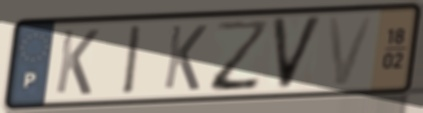I: (121, 22, 145, 98)
K: (52, 27, 102, 97), (160, 23, 210, 93)
V: (269, 13, 326, 93), (324, 13, 379, 90)
Z: (209, 17, 273, 95)
